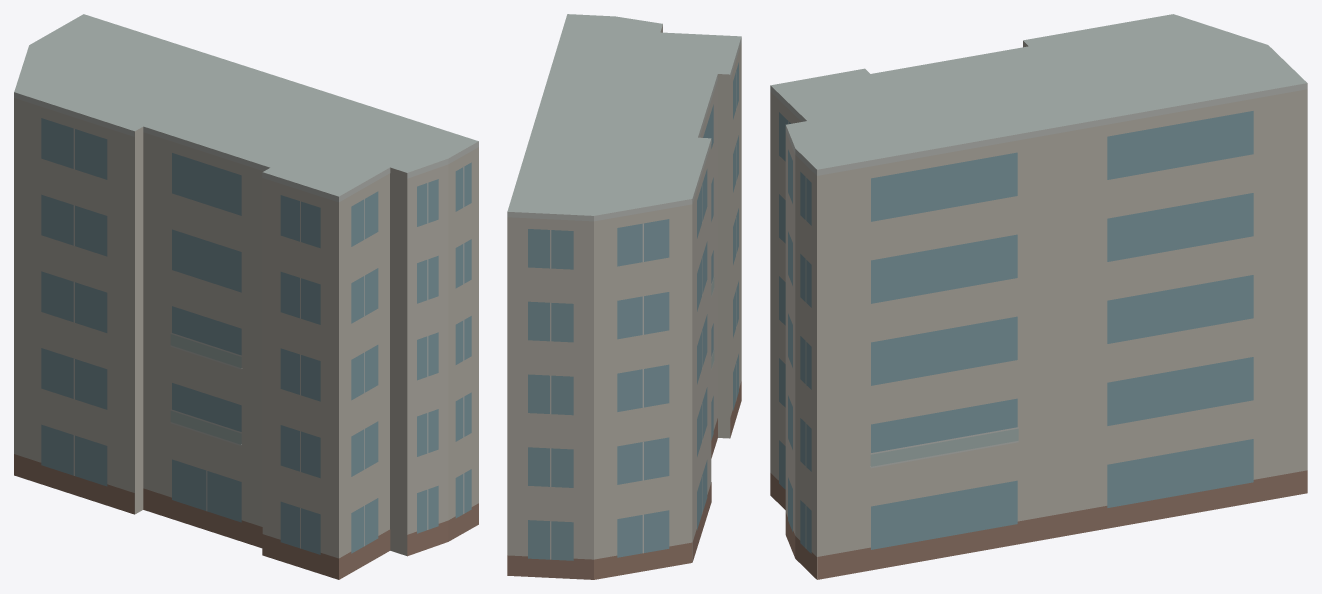
The model's file is survey-upis-32997735.glb.
3 renders of one model, left to right at view 1: azimuth 30°, elevation 25°; view 2: azimuth 150°, elevation 25°; view 3: azimuth 270°, elevation 25°, orthographic. The views are drawn at different scales.
Visible parts, largest first — view 1: survey-upis-32997735.tmp; view 2: survey-upis-32997735.tmp; view 3: survey-upis-32997735.tmp.
Boxes of the visible parts, x1,y1,x2,y2 form: survey-upis-32997735.tmp: (14, 14, 478, 579); survey-upis-32997735.tmp: (507, 14, 741, 579); survey-upis-32997735.tmp: (770, 14, 1307, 579).
Size of the model in its own units: 13.2 by 16.2 by 19.24.
